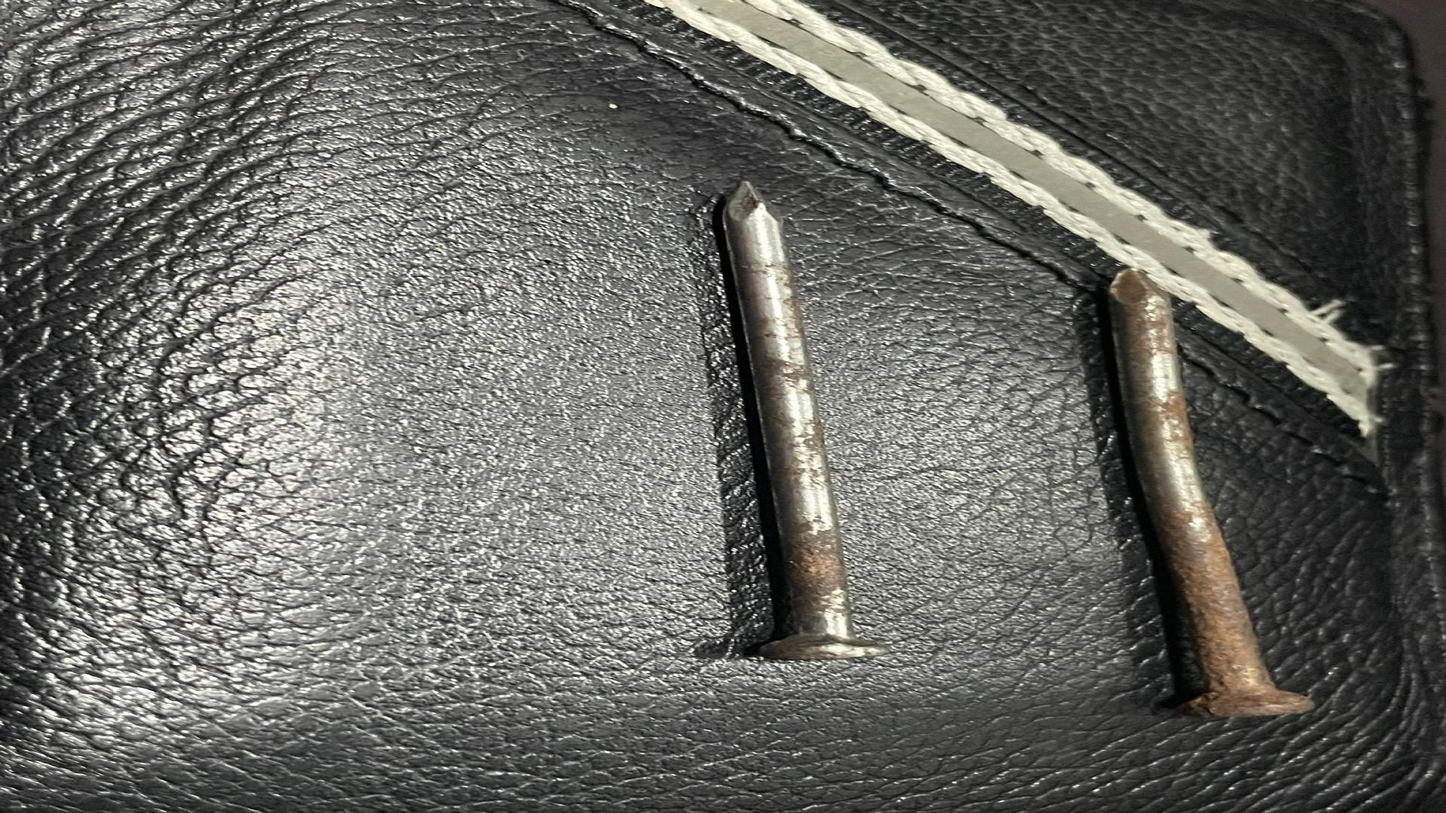nail: (664, 169, 960, 677), (1050, 254, 1342, 727)
